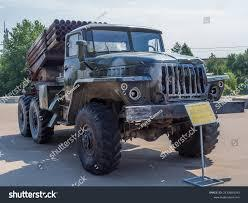MIL_SAM_TEL: (17, 19, 227, 172)
